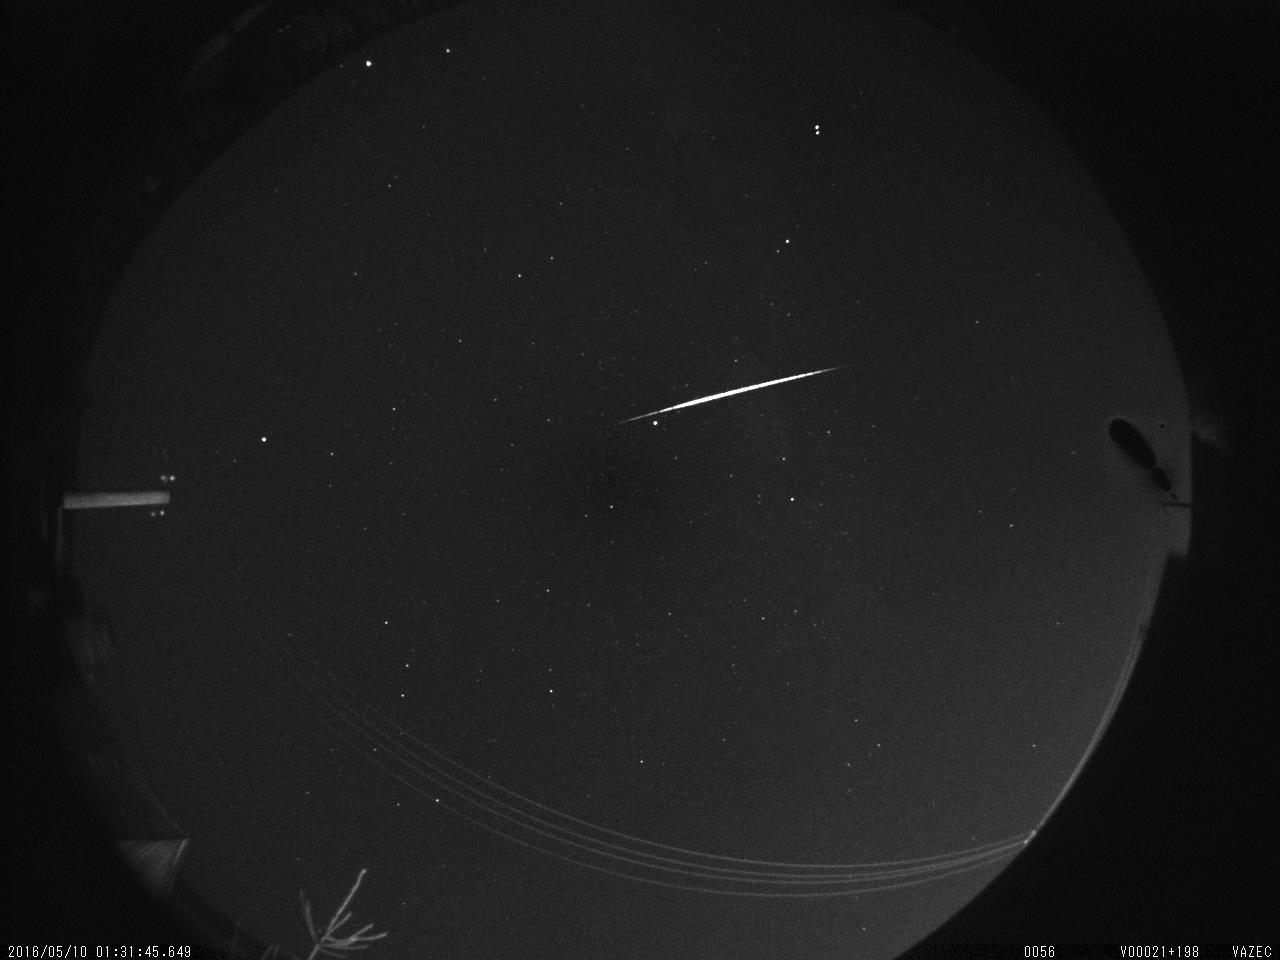Meteor: (615, 351, 863, 434)
